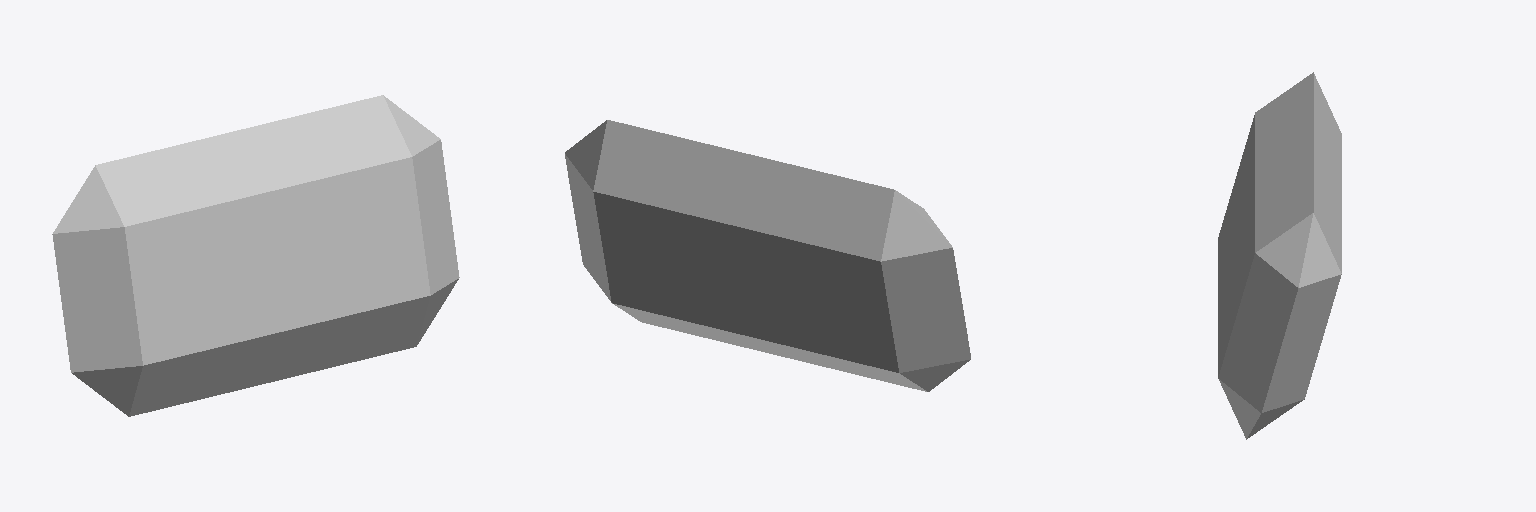
File: pillowBlue.obj
3 views of the same model, side by side, from view 1: azimuth 30°, elevation 25°; view 2: azimuth 150°, elevation 25°; view 3: azimuth 270°, elevation 25° (orthographic).
Size of the model in its own units: 0.23 by 0.1285 by 0.0634.